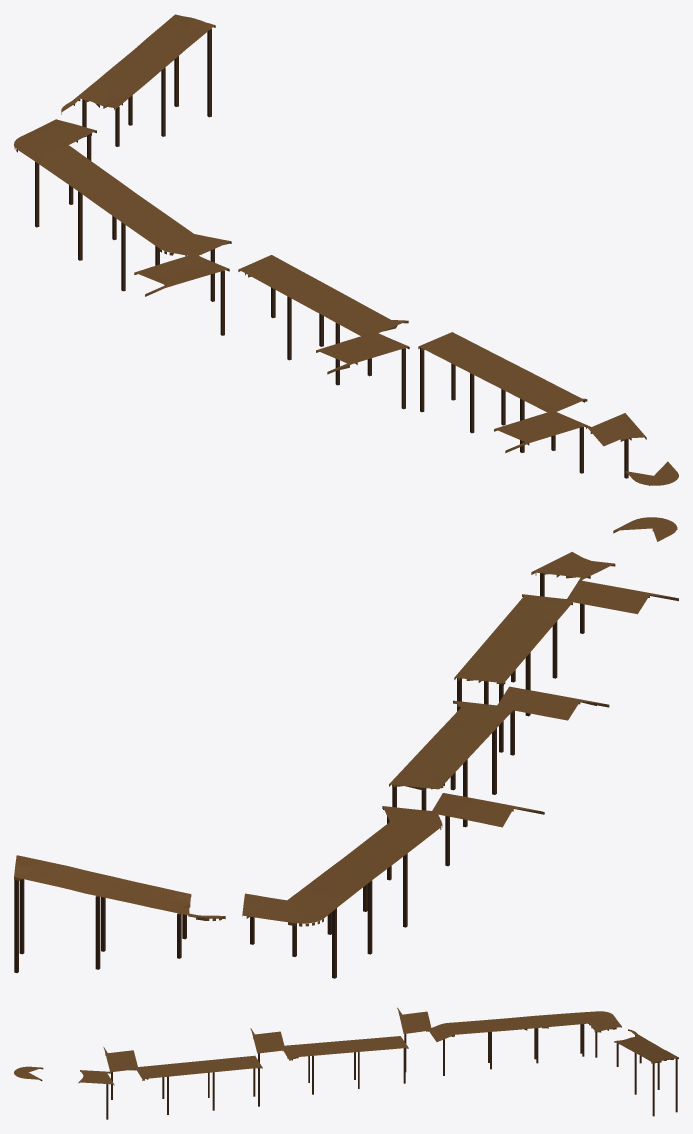
Rendered from published-manymouth-delta-manymouth-village-south-hamlet.glb.
3 views of the same model, one above another, from view 1: azimuth 30°, elevation 25°; view 2: azimuth 150°, elevation 25°; view 3: azimuth 270°, elevation 25° (orthographic). The views are drawn at different scales.
Parts seen in each view (by area): view 1: Walk_Manymouth_Village_south_hamlet, Manymouth_Village_Piles_south_hamlet; view 2: Walk_Manymouth_Village_south_hamlet, Manymouth_Village_Piles_south_hamlet, Manymouth_Village_Fascia_south_hamlet; view 3: Walk_Manymouth_Village_south_hamlet, Manymouth_Village_Piles_south_hamlet, Manymouth_Village_Fascia_south_hamlet.
Boxes of the visible parts, x1=… form: Walk_Manymouth_Village_south_hamlet: x1=14, y1=14, x2=678, y2=485; Manymouth_Village_Piles_south_hamlet: x1=35, y1=28, x2=628, y2=478; Walk_Manymouth_Village_south_hamlet: x1=14, y1=517, x2=676, y2=923; Manymouth_Village_Piles_south_hamlet: x1=14, y1=573, x2=584, y2=978; Manymouth_Village_Fascia_south_hamlet: x1=14, y1=527, x2=678, y2=926; Walk_Manymouth_Village_south_hamlet: x1=14, y1=1008, x2=678, y2=1084; Manymouth_Village_Piles_south_hamlet: x1=106, y1=1024, x2=677, y2=1119; Manymouth_Village_Fascia_south_hamlet: x1=39, y1=1007, x2=678, y2=1085.
Bounding box in the file's own units: 17.01 × 6.75 × 57.45.
